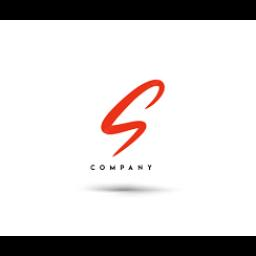a: (128, 164, 134, 172)
c: (89, 162, 95, 172)
m: (110, 164, 116, 170)
n: (136, 164, 144, 170)
o: (98, 164, 106, 172)
p: (120, 164, 124, 170)
y: (148, 164, 152, 170)
